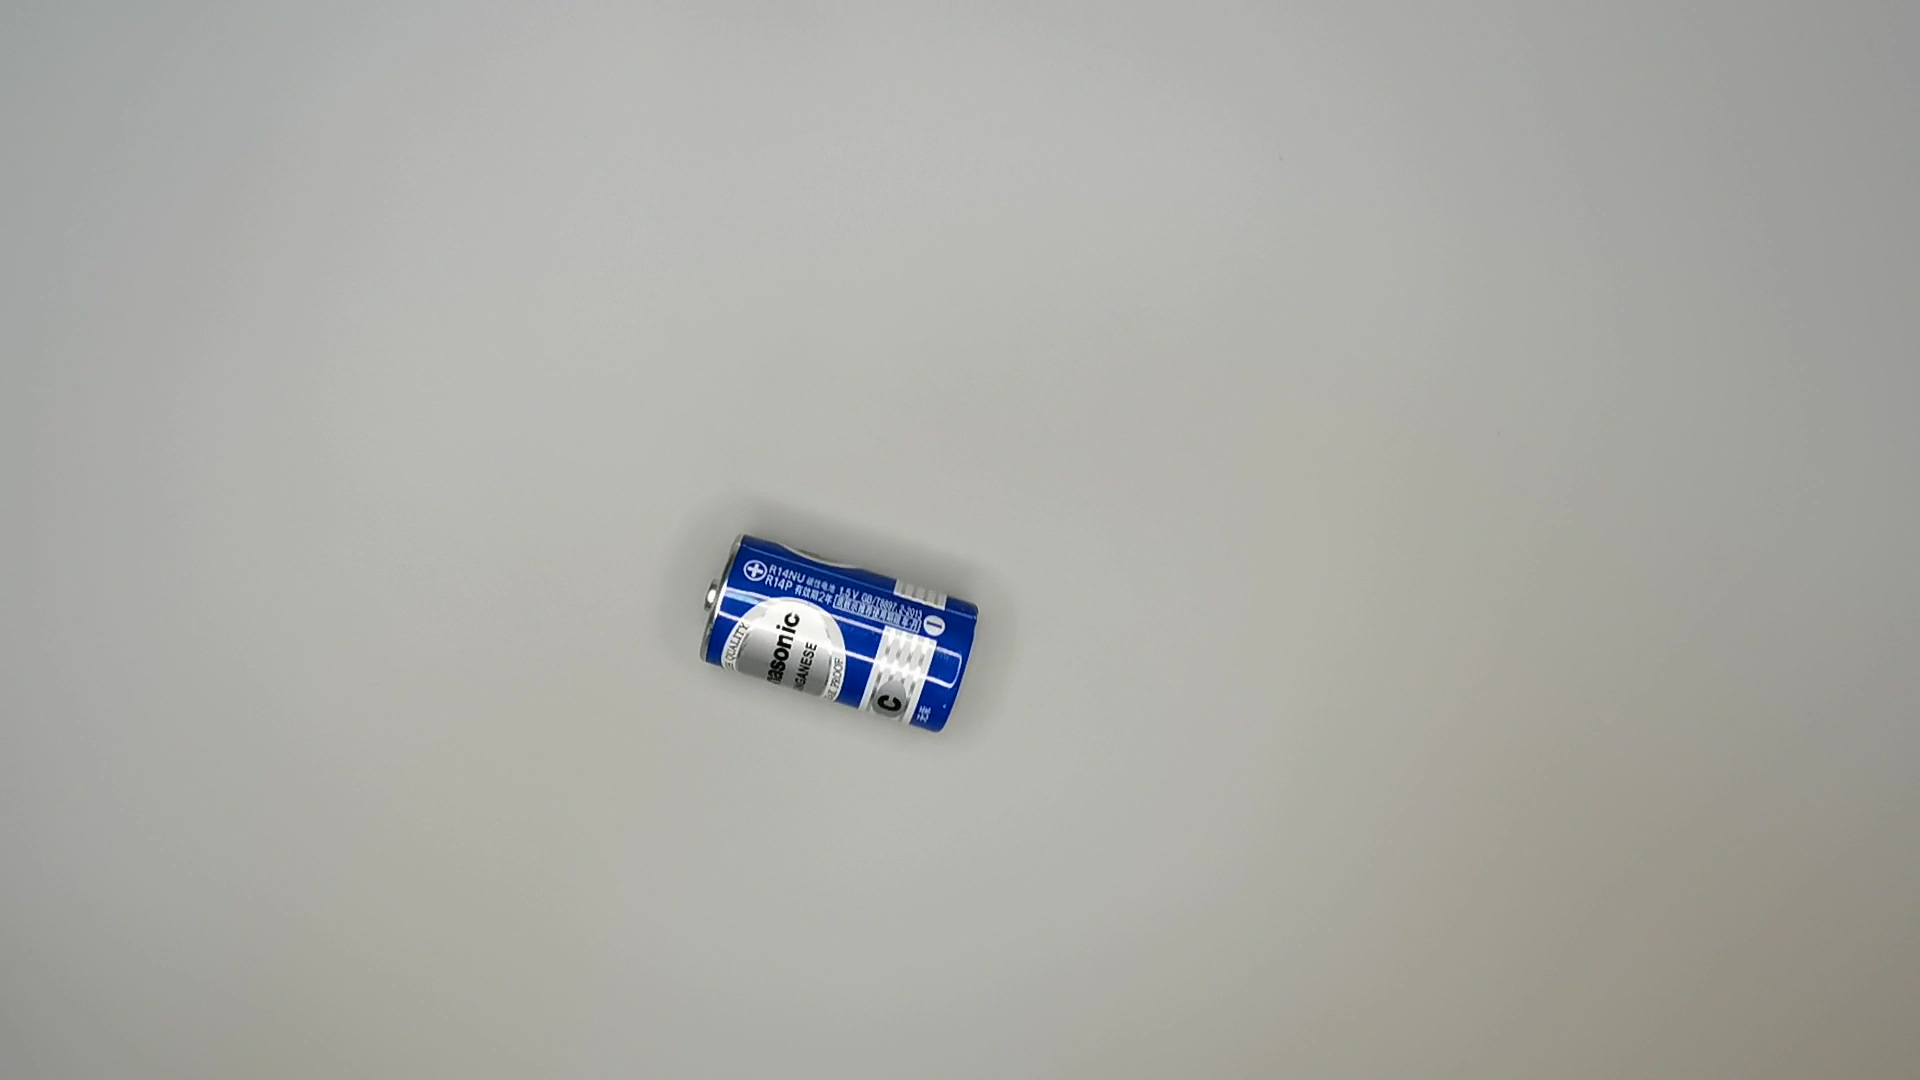battery: (691, 531, 986, 735)
